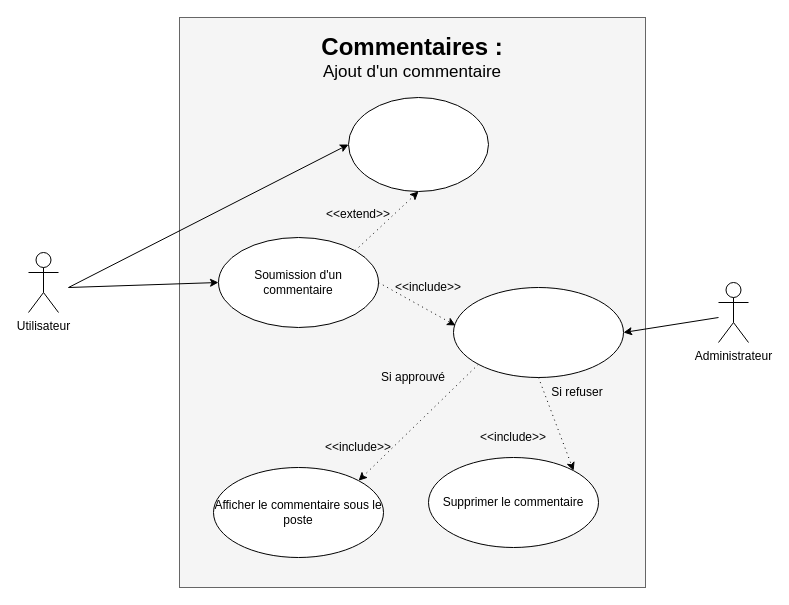
Image size: 789x605. Some labels were removed from this diagram. Here are the shapes that lost their labels. From the top down, the centre of each, then its label:
point 418,144: Visite sur la page d'un post sur le blog
point 538,332: Gérer le commentaire : Approuver / Refuser
